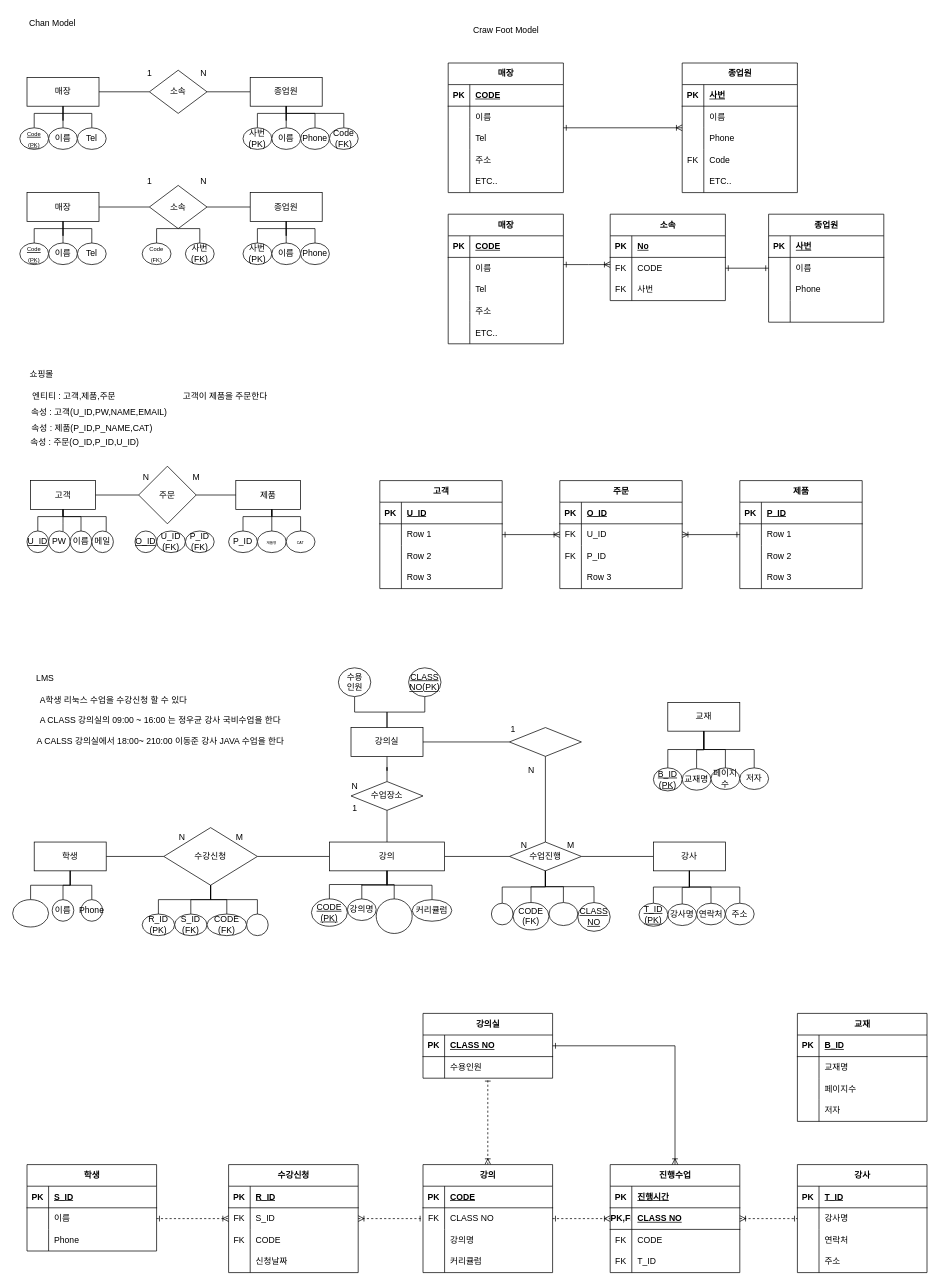
The diagram is 940 pixels wide and 1285 high, and some of its shapes have lost their labels. Here are the shapes that lost their labels. From the top down, the centre of each, then its label:
(x=30, y=913): S_ID (PK)
(x=257, y=924): 신청 날짜
(x=393, y=915): CLASS NO(FK)
(x=502, y=914): 진행 시간
(x=563, y=914): T_ID (FK)
